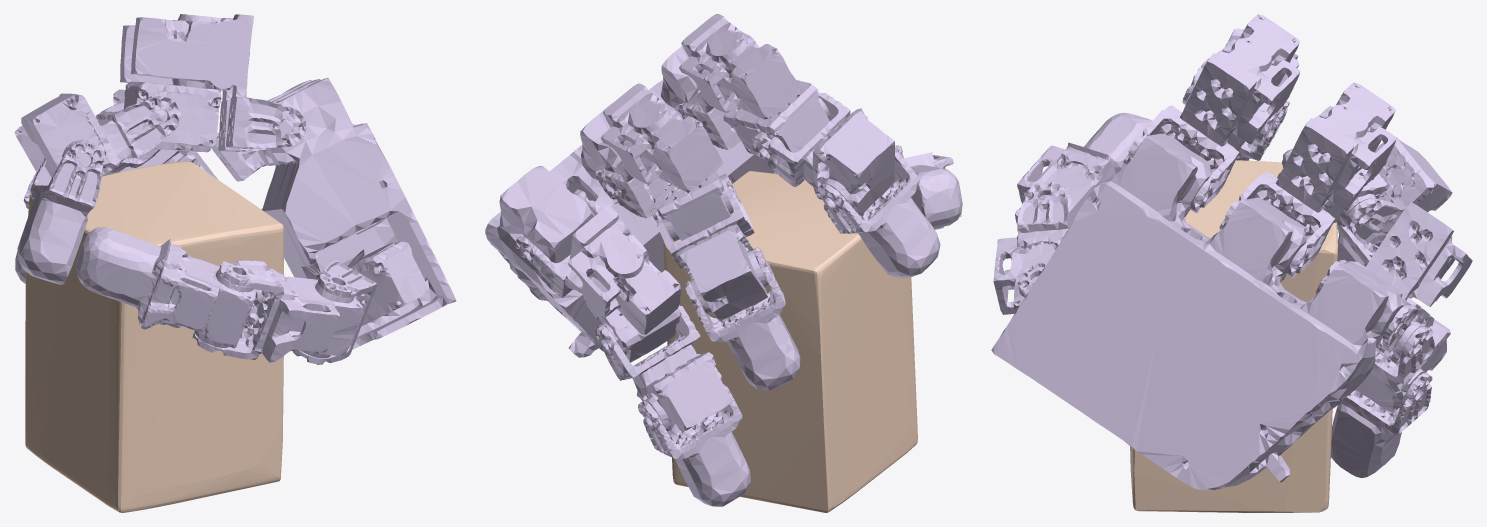
The model's file is a2915cd092cbf9-final.glb.
3 renders of one model, left to right at view 1: azimuth 30°, elevation 25°; view 2: azimuth 150°, elevation 25°; view 3: azimuth 270°, elevation 25°, orthographic. The views are drawn at different scales.
Visible parts, largest first — view 1: LEAP_hand, world; view 2: LEAP_hand, world; view 3: LEAP_hand, world.
Boxes of the visible parts, x1,y1,x2,y2 form: LEAP_hand: (14, 14, 456, 364); world: (25, 161, 283, 512); LEAP_hand: (485, 14, 962, 506); world: (663, 171, 917, 512); LEAP_hand: (991, 14, 1472, 490); world: (1130, 160, 1337, 512).
Size of the model in its own units: 0.1903 by 0.1959 by 0.1856.
